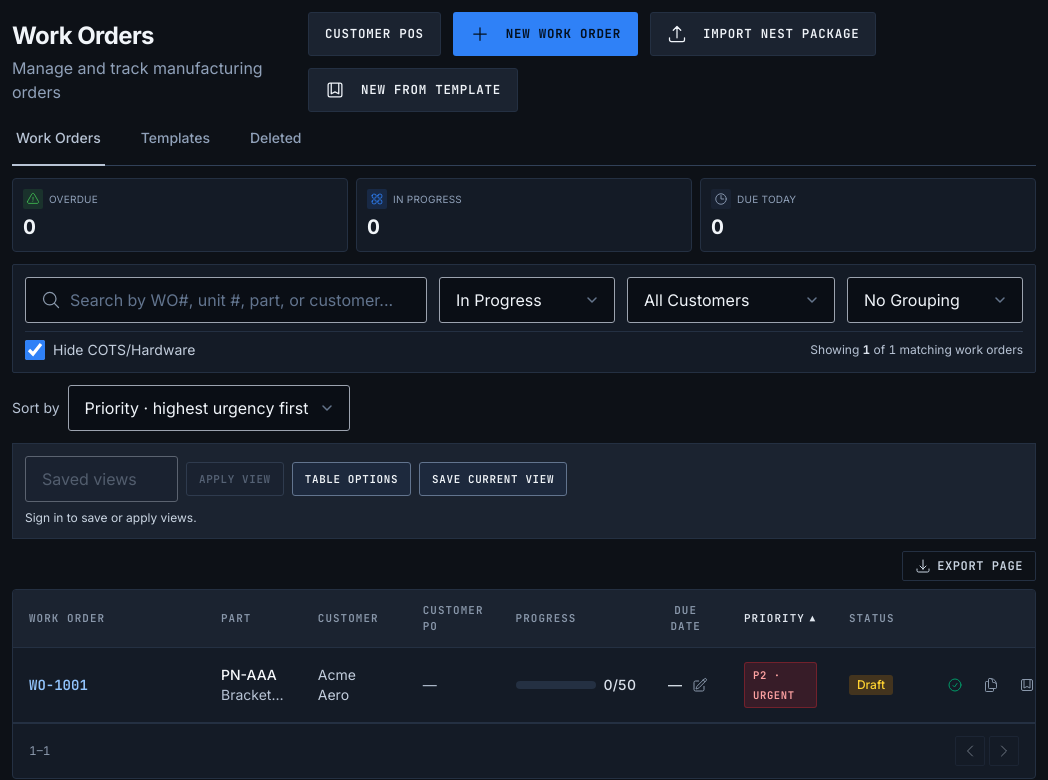
WorkOrders: switching tabs preserves the other filters › adds ?tab=templates WITHOUT dropping an existing status filter
The image size is (1048, 780).
Step 1. Click the button "Templates" → (175, 139), box [137, 112, 214, 166]
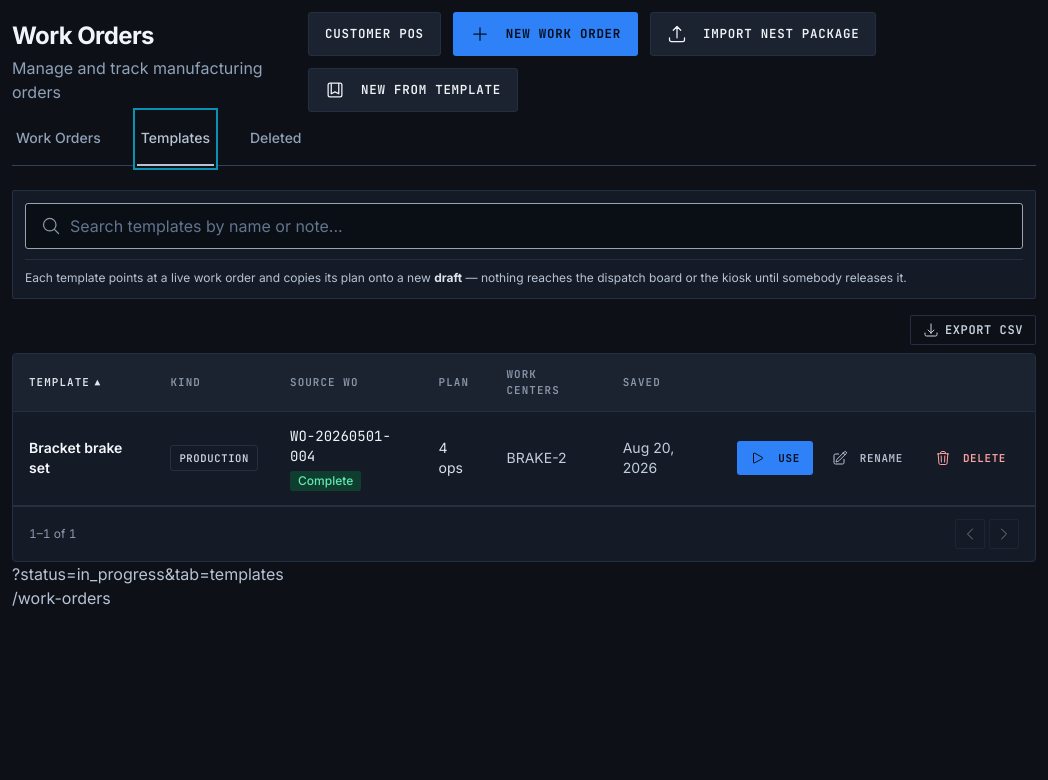
Expected: the text "Bracket brake set" is shown, [29, 438, 138, 478]
